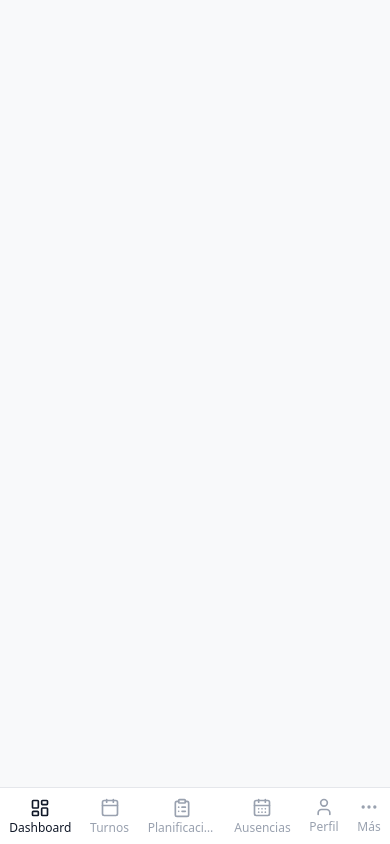
Test case: MobileNav › cierra menú al hacer click en un enlace
Click the button "Más" at (369, 816), box [349,789,389,843]
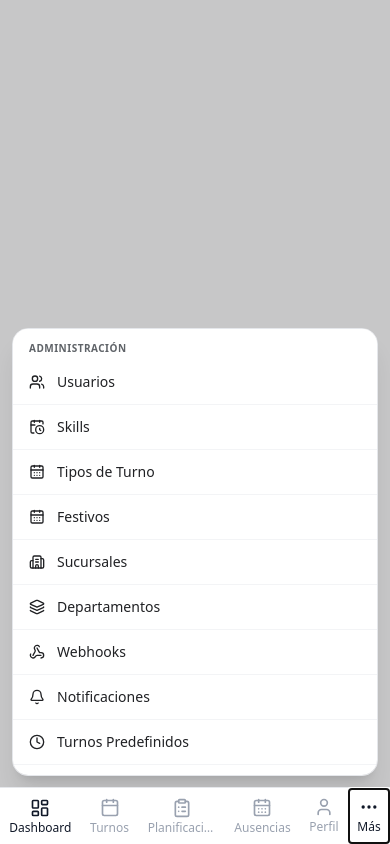
Click the link "Usuarios" at (86, 382), box [13,360,377,405]
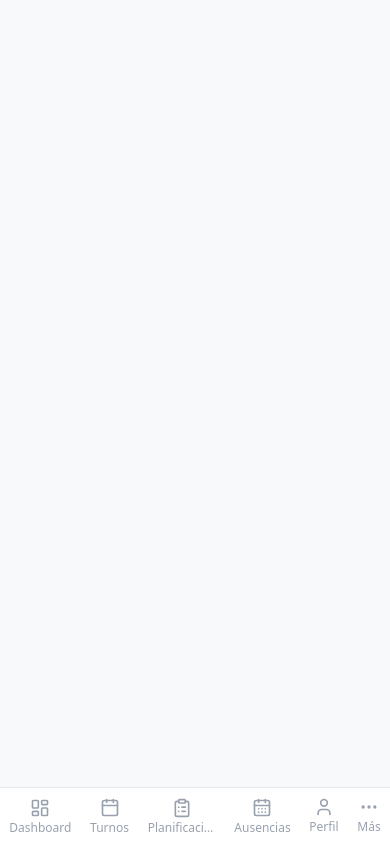
Check: the element with id "mobile-nav-extras" is gone
